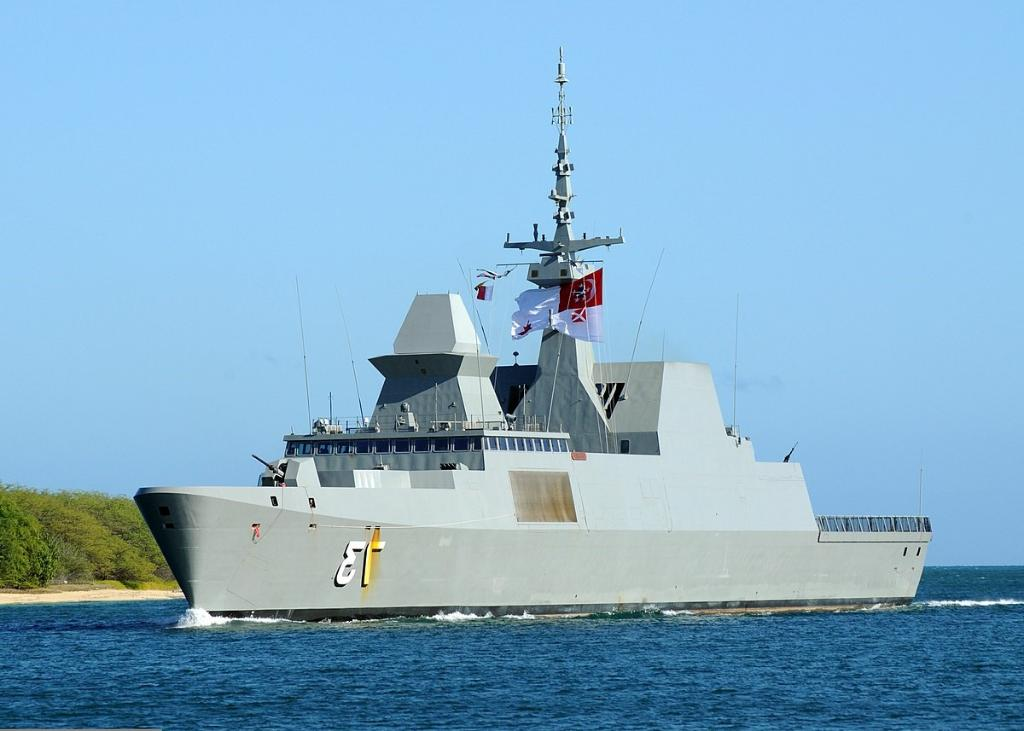Warship: (135, 34, 945, 622)
